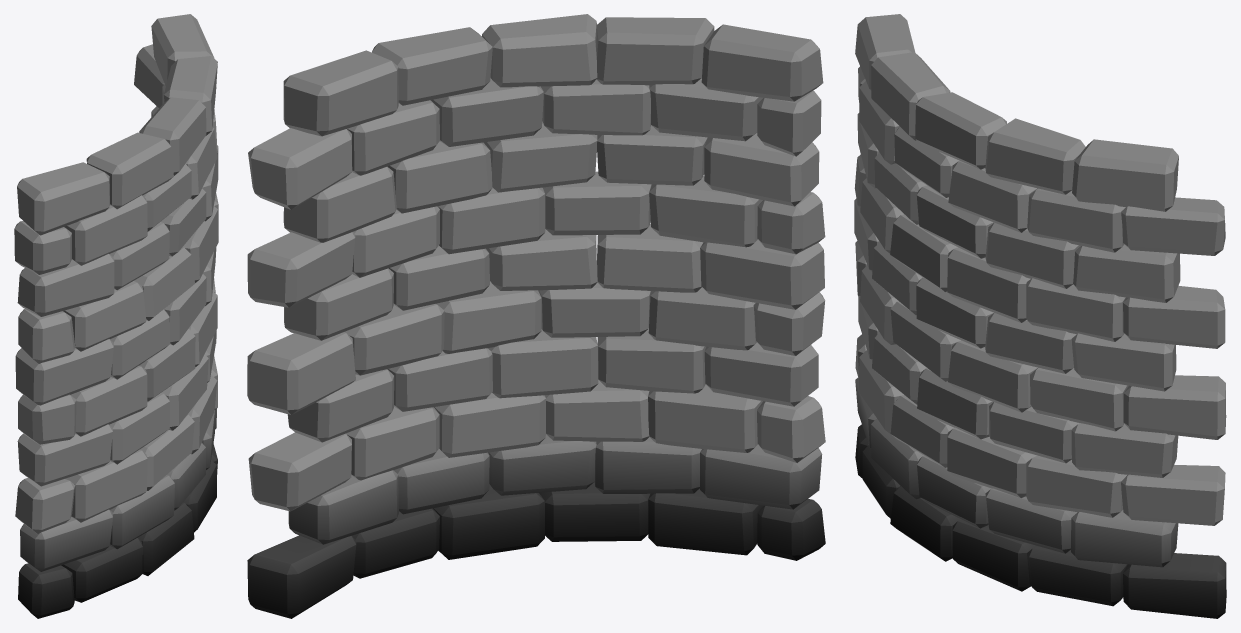
File: BrickWall2x2_01_T90_End_R.fbx
The picture shows the model from 3 angles, left to right: view 1: azimuth 30°, elevation 25°; view 2: azimuth 150°, elevation 25°; view 3: azimuth 270°, elevation 25°; orthographic projection. The views are drawn at different scales.
Visible parts, largest first — view 1: BrickWall2x2_01_T90_End_R; view 2: BrickWall2x2_01_T90_End_R; view 3: BrickWall2x2_01_T90_End_R.
Boxes of the visible parts, x1,y1,x2,y2 form: BrickWall2x2_01_T90_End_R: [14, 14, 218, 618]; BrickWall2x2_01_T90_End_R: [247, 14, 825, 618]; BrickWall2x2_01_T90_End_R: [854, 14, 1226, 618].
Size of the model in its own units: 155 by 202 by 150.
